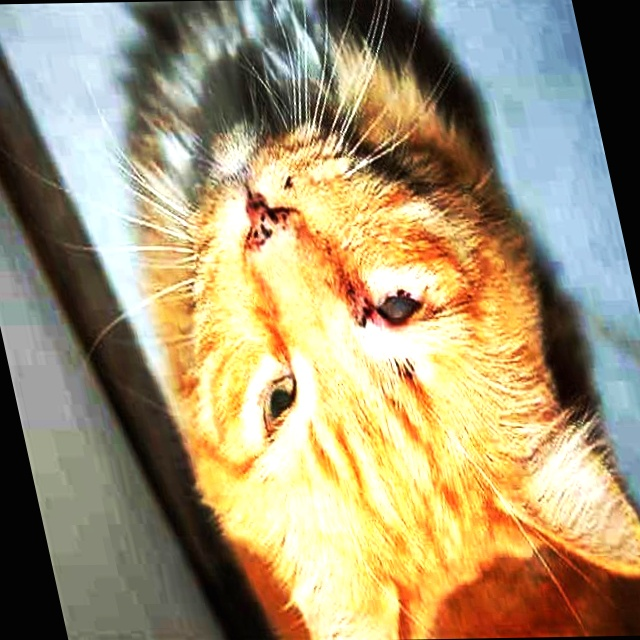eye_infection: (360, 285, 422, 327)
